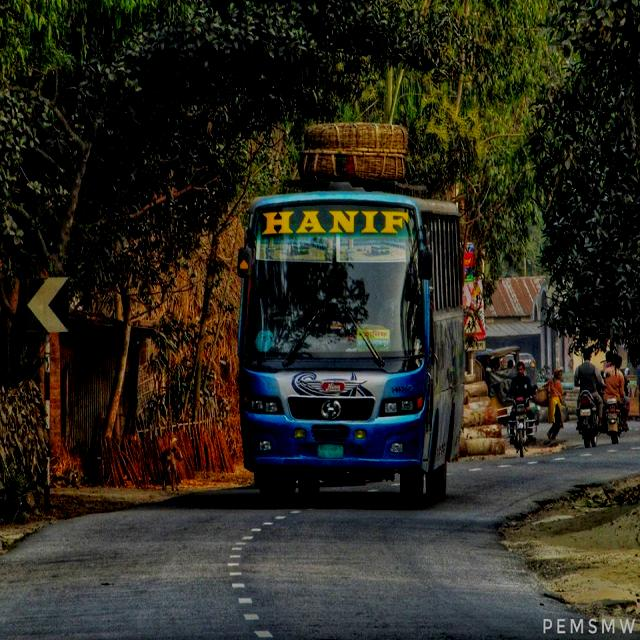bus: (236, 180, 467, 512)
